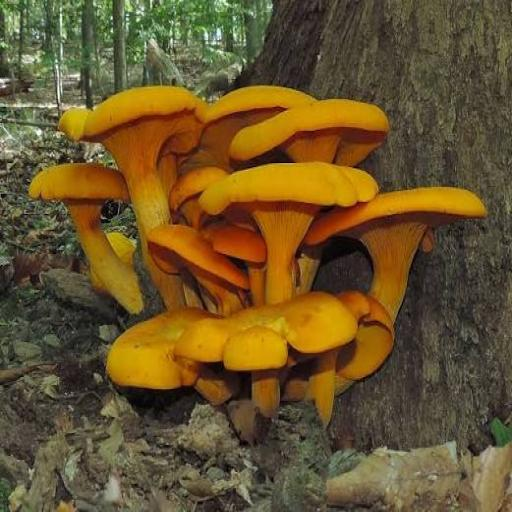Jack O Lantern Mushroom: (56, 88, 213, 313), (194, 156, 369, 314), (296, 177, 479, 320), (23, 160, 154, 327), (179, 289, 346, 415), (227, 85, 388, 173), (105, 306, 228, 404), (141, 212, 255, 316), (194, 77, 305, 171), (161, 162, 221, 226), (209, 212, 272, 266)
